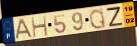5: (53, 13, 67, 34)
9: (71, 11, 84, 32)
A: (13, 18, 34, 41)
H: (30, 15, 49, 39)
Q: (88, 8, 107, 30)
Z: (105, 5, 125, 28)
